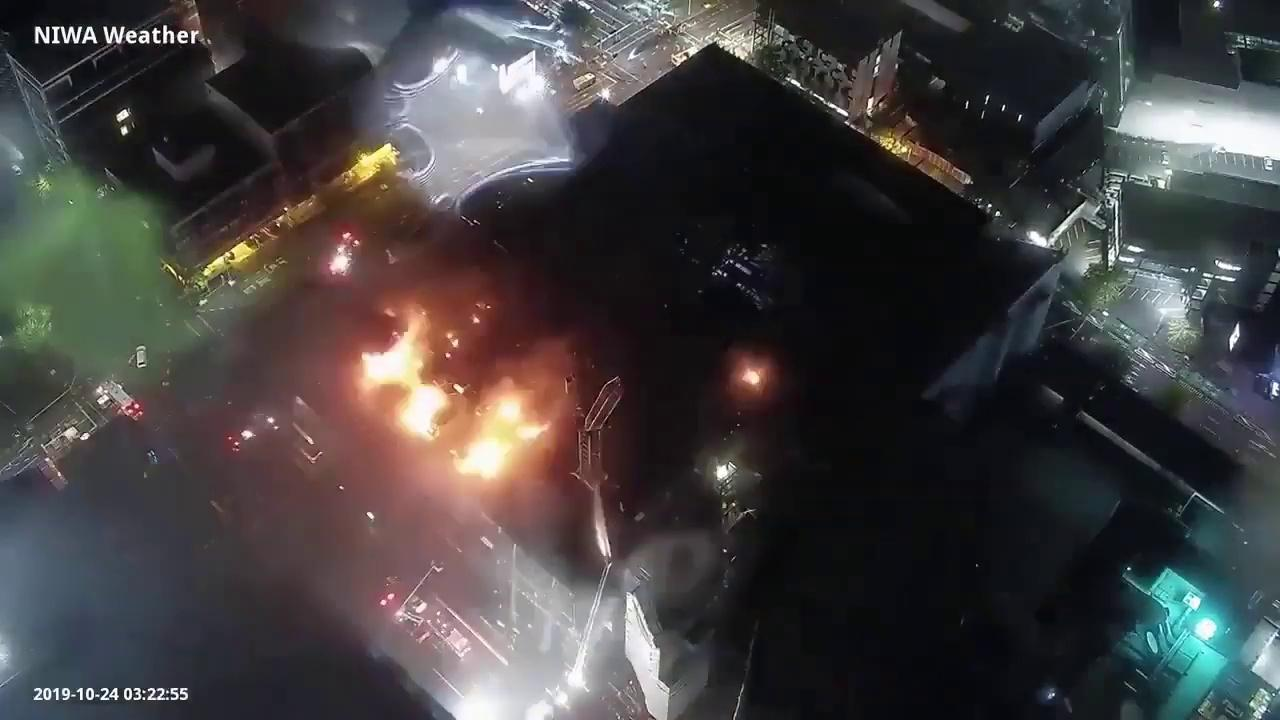Fire: (365, 311, 436, 435), (457, 382, 552, 474), (738, 363, 764, 388)
